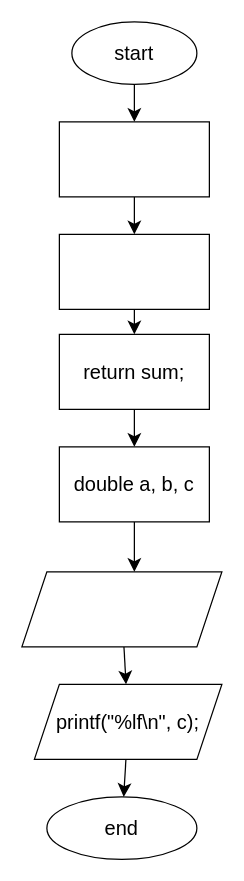
Some shapes in this 244 by 881 pixel diagram are drawn without their labels. The box of each missing label's shape, as (x1, y1, x2, y2) in pixels:
a = 2.5, b = 2.5 c = add(a , b): (21, 571, 222, 647)
double sum = num1 + num2: (58, 233, 209, 309)
int double(int num1, num2: (58, 121, 209, 197)
